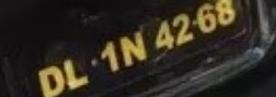1: (98, 38, 121, 73)
2: (171, 12, 193, 44)
4: (154, 18, 174, 51)
6: (195, 1, 217, 33)
8: (215, 0, 236, 27)
D: (35, 65, 66, 97)
L: (62, 55, 90, 89)
N: (118, 30, 149, 67)
